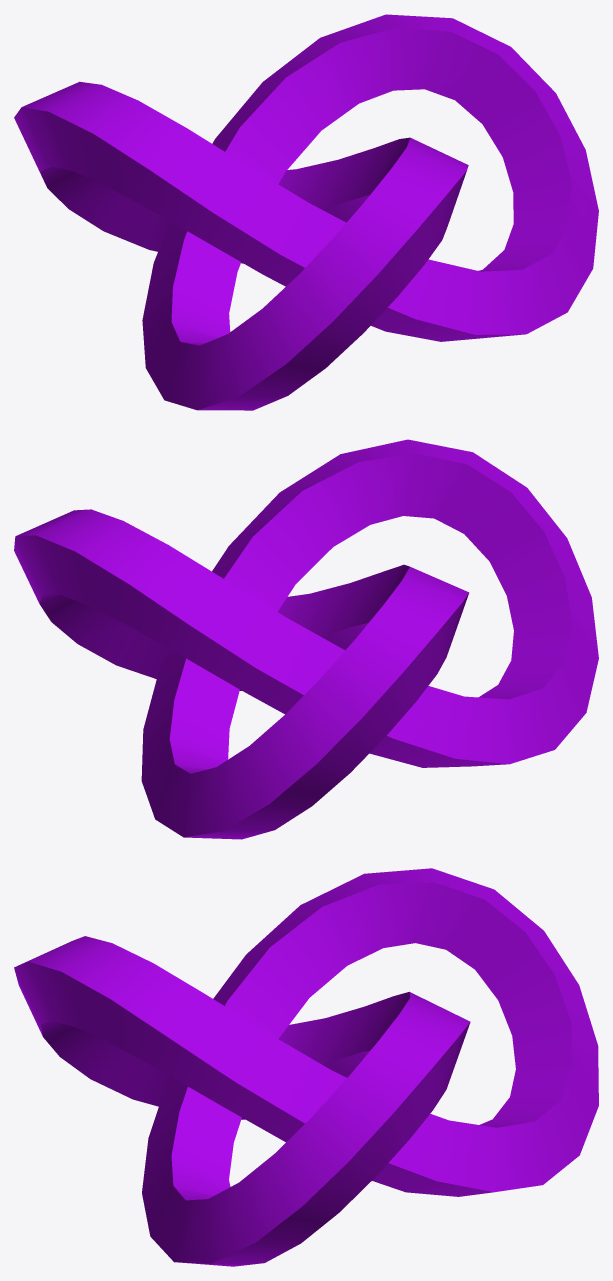
File: other.fbx
3 views of the same model, one above another, from view 1: azimuth 30°, elevation 25°; view 2: azimuth 150°, elevation 25°; view 3: azimuth 270°, elevation 25° (orthographic).
Visible parts, largest first — view 1: TorusKnot; view 2: TorusKnot; view 3: TorusKnot.
Boxes of the visible parts, box(x1,y1,x2,y2) form: TorusKnot: box(14, 14, 598, 410); TorusKnot: box(14, 439, 598, 839); TorusKnot: box(14, 868, 598, 1266).
Bounding box in the file's own units: 148 × 70.9 × 158.
